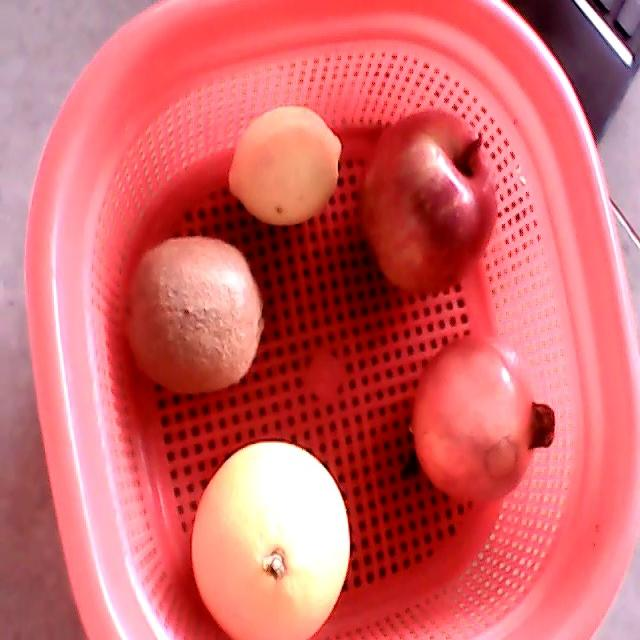apple: (363, 108, 499, 295)
kiwi: (122, 236, 264, 396)
lemon: (228, 105, 344, 226)
orange: (191, 443, 350, 639)
pomegranate: (413, 332, 556, 507)
